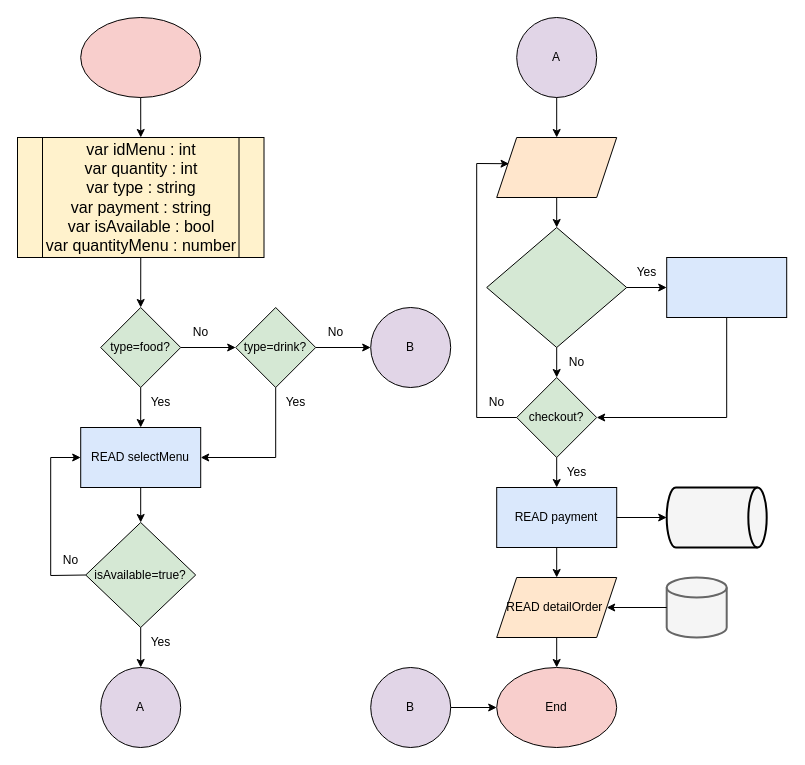
The diagram is 805 pixels wide and 765 high, and some of its shapes have lost their labels. Each missing label, with the centre of its shape:
"order" goes at [696,607].
"quantity = quantityMenu" goes at [726,287].
"quantity>quantityMenu?" goes at [556,287].
"READ idMenu WRITE quantity" goes at [556,167].
"Start" goes at [140,57].
"STORE order (idOrder, idPayment, idMenu, quantity)" goes at [716,517].
